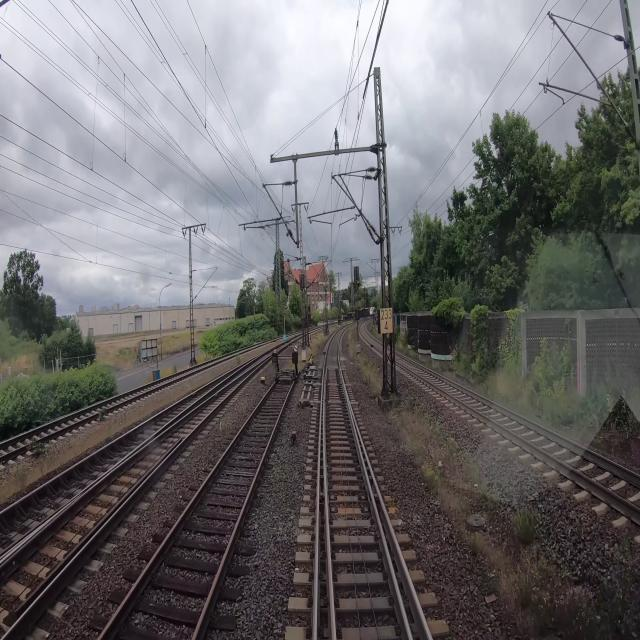Plant: (511, 548, 632, 639), (388, 399, 442, 462), (513, 503, 539, 543), (421, 463, 444, 494), (443, 433, 466, 464), (467, 534, 478, 554), (236, 355, 243, 364)
